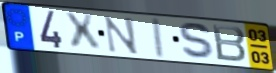4: (38, 10, 64, 50)
B: (210, 23, 248, 64)
I: (152, 16, 167, 60)
N: (102, 15, 141, 56)
S: (177, 21, 218, 61)
X: (62, 12, 103, 52)
